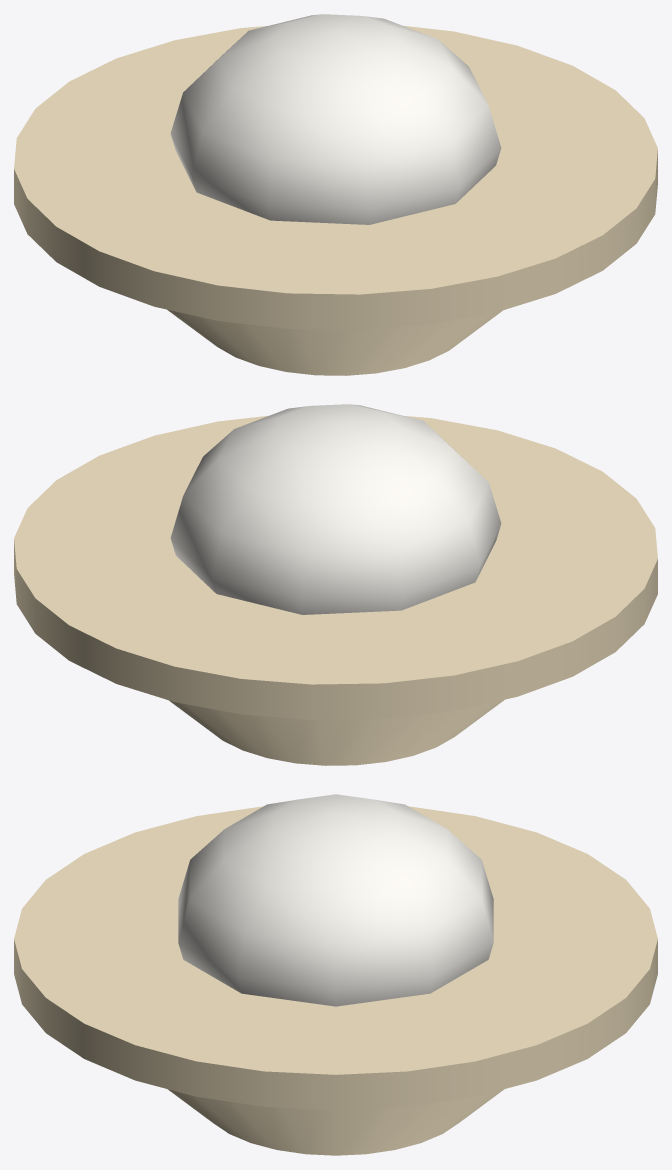
The model's file is rice-bowl.glb.
The picture shows the model from 3 angles, top to bottom: view 1: azimuth 30°, elevation 25°; view 2: azimuth 150°, elevation 25°; view 3: azimuth 270°, elevation 25°; orthographic projection.
Size of the model in its own units: 1.32 by 0.6448 by 1.32.
